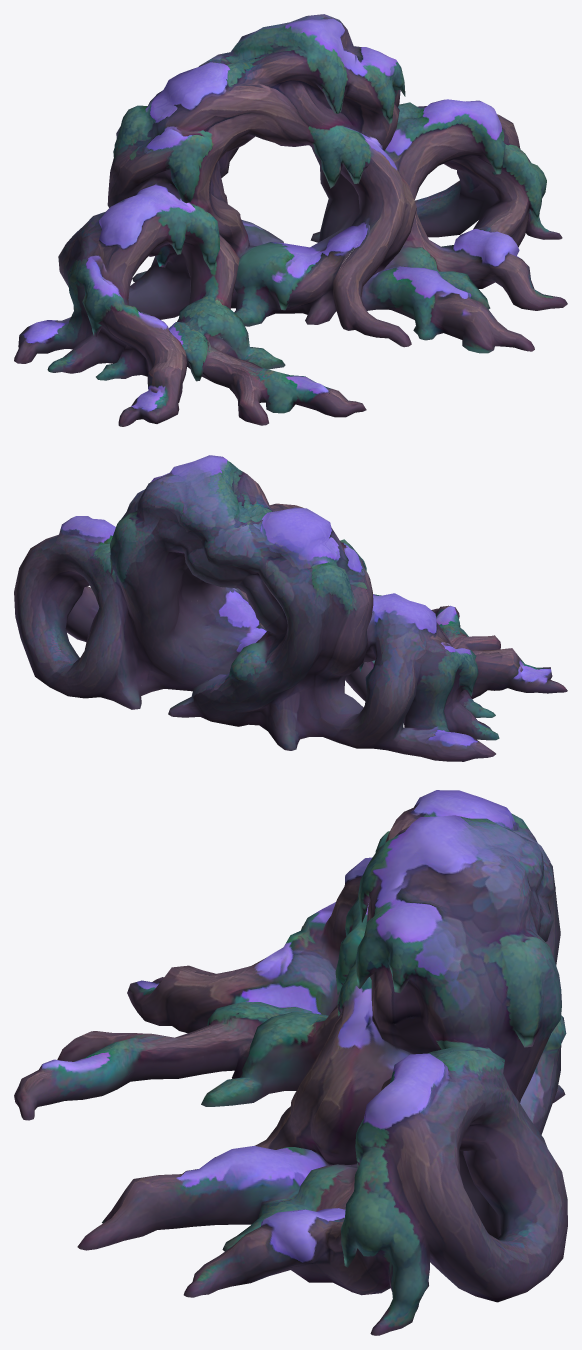
File: user_tangled_roots.glb
3 views of the same model, one above another, from view 1: azimuth 30°, elevation 25°; view 2: azimuth 150°, elevation 25°; view 3: azimuth 270°, elevation 25° (orthographic). The views are drawn at different scales.
Parts seen in each view (by area): view 1: tripo_node_3930182e-dca6-42c3-ae27-cb6cb6b6f81d; view 2: tripo_node_3930182e-dca6-42c3-ae27-cb6cb6b6f81d; view 3: tripo_node_3930182e-dca6-42c3-ae27-cb6cb6b6f81d.
Boxes of the visible parts, x1,y1,x2,y2 form: tripo_node_3930182e-dca6-42c3-ae27-cb6cb6b6f81d: (14,14,567,426); tripo_node_3930182e-dca6-42c3-ae27-cb6cb6b6f81d: (14,455,567,761); tripo_node_3930182e-dca6-42c3-ae27-cb6cb6b6f81d: (14,790,567,1335).
Bounding box in the file's own units: 0.9995 × 0.4692 × 0.6411.
Materials: 1 (1 with a texture image).
